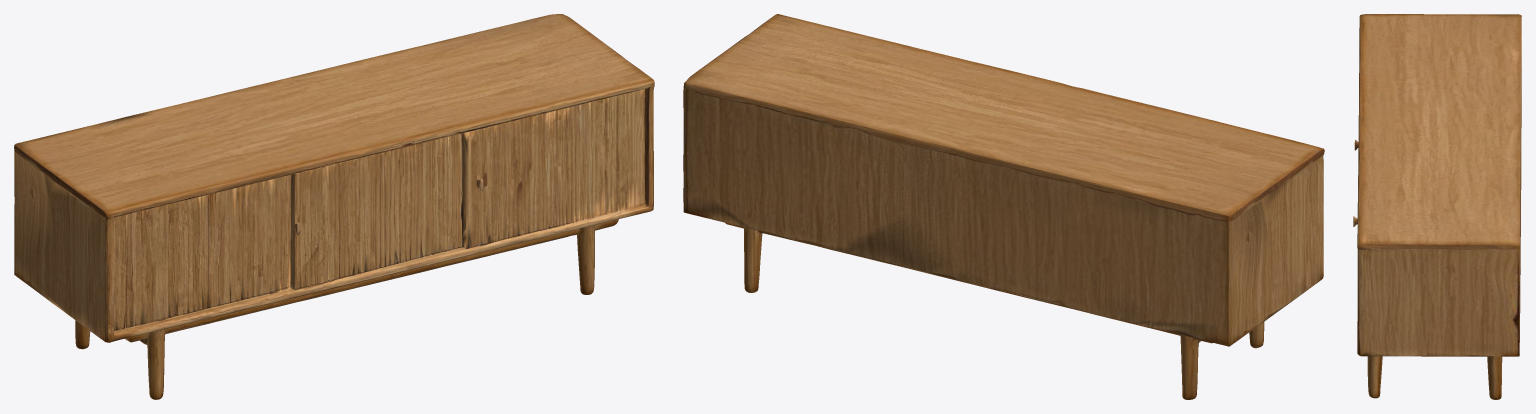
The model's file is sideboard.glb.
3 views of the same model, side by side, from view 1: azimuth 30°, elevation 25°; view 2: azimuth 150°, elevation 25°; view 3: azimuth 270°, elevation 25° (orthographic). The views are drawn at different scales.
Visible parts, largest first — view 1: tripo_node_355ebdd8-e866-443c-895e-dc252b291d19; view 2: tripo_node_355ebdd8-e866-443c-895e-dc252b291d19; view 3: tripo_node_355ebdd8-e866-443c-895e-dc252b291d19.
Boxes of the visible parts, x1,y1,x2,y2 form: tripo_node_355ebdd8-e866-443c-895e-dc252b291d19: (14, 14, 654, 399); tripo_node_355ebdd8-e866-443c-895e-dc252b291d19: (683, 14, 1324, 399); tripo_node_355ebdd8-e866-443c-895e-dc252b291d19: (1353, 14, 1521, 399).
Size of the model in its own units: 0.9811 by 0.3526 by 0.3034.
Materials: 1 (1 with a texture image).
